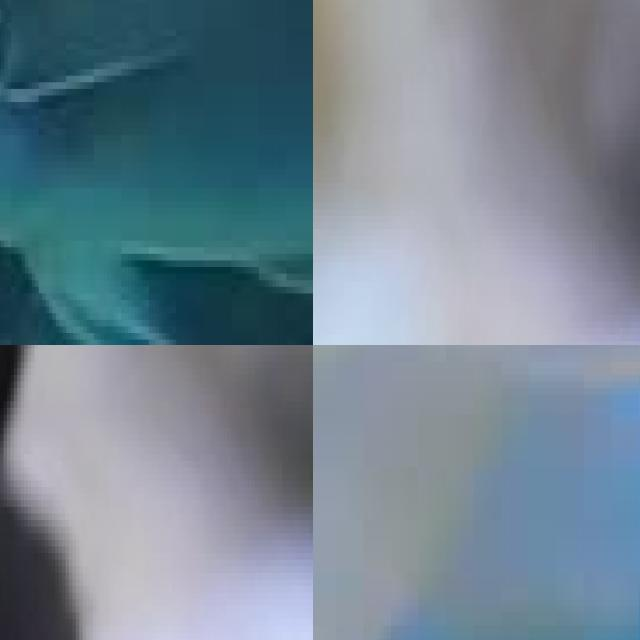fish: (0, 0, 313, 345), (0, 345, 220, 526)
